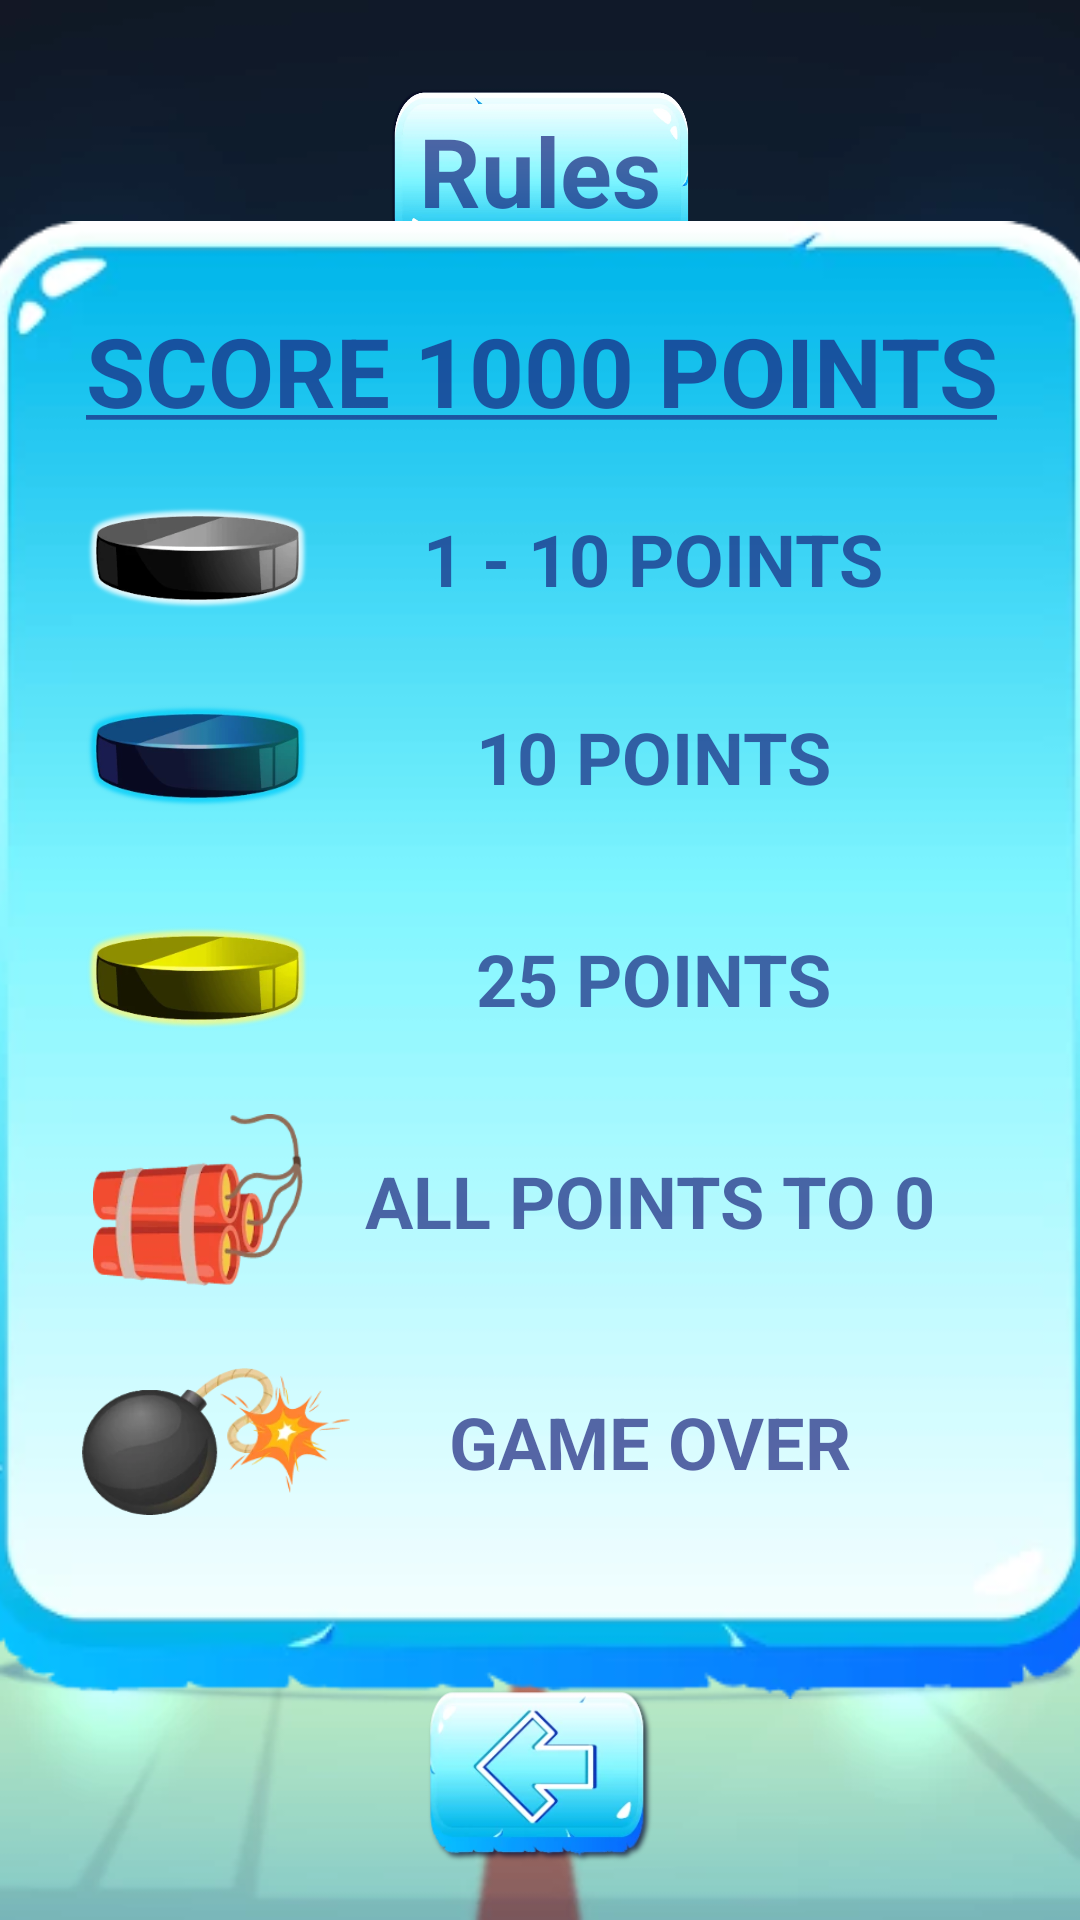

Screen size 1080×1920. Icon name, then its center in pixels as point (x, y):
back: point (540, 1778)
puck: point (197, 756)
puck golden: point (197, 978)
puck standard: point (197, 558)
